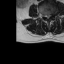CCS_stenosis: (47, 13, 49, 19)
LFS_severe_stenosis: (51, 13, 53, 18)
LLS_severe_stenosis: (49, 13, 51, 19)
RFS_stenosis: (43, 13, 45, 18)
RLS_stenosis: (45, 13, 47, 19)
